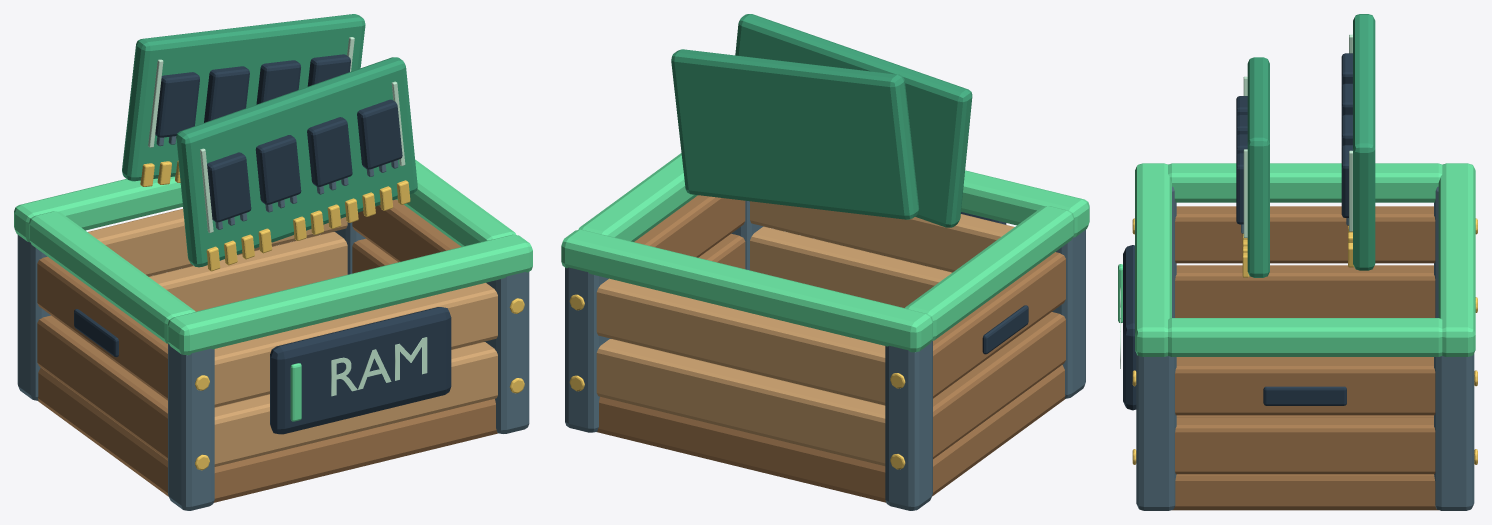
Rendered from ram_module.glb.
3 renders of one model, left to right at view 1: azimuth 30°, elevation 25°; view 2: azimuth 150°, elevation 25°; view 3: azimuth 270°, elevation 25°, orthographic. The views are drawn at different scales.
Visible parts, largest first — view 1: RAM green circuit board, Colored rim, Solid crate floor, Front sign, RAM green circuit board.001, Horizontal wood plank, Horizontal wood plank.002, Horizontal wood plank.001, Side wood plank, Colored rim.002, Reinforced corner, Side wood plank.002 (+19 smaller); view 2: RAM green circuit board.001, Horizontal wood plank.001, Horizontal wood plank.003, Colored rim.001, Solid crate floor, RAM green circuit board, Horizontal wood plank.002, Horizontal wood plank, Side wood plank, Colored rim.002, Reinforced corner.001, Side wood plank.002 (+7 smaller); view 3: Side wood plank.001, Side wood plank.003, Side wood plank, Side wood plank.002, Colored rim.003, Solid crate floor, Colored rim.002, Colored rim.001, Colored rim, Reinforced corner.003, Reinforced corner.002, RAM green circuit board.001 (+8 smaller).
Boxes of the visible parts, x1=… form: RAM green circuit board: x1=176, y1=57, x2=417, y2=267; Colored rim: x1=167, y1=234, x2=532, y2=355; Solid crate floor: x1=37, y1=367, x2=497, y2=502; Front sign: x1=270, y1=307, x2=451, y2=434; RAM green circuit board.001: x1=122, y1=14, x2=365, y2=181; Horizontal wood plank: x1=214, y1=342, x2=497, y2=466; Horizontal wood plank.002: x1=214, y1=283, x2=497, y2=407; Horizontal wood plank.001: x1=149, y1=231, x2=347, y2=311; Side wood plank: x1=37, y1=315, x2=167, y2=459; Colored rim.002: x1=29, y1=211, x2=195, y2=343; Reinforced corner: x1=168, y1=344, x2=214, y2=510; Side wood plank.002: x1=37, y1=256, x2=167, y2=400; RAM green circuit board.001: x1=671, y1=49, x2=919, y2=219; Horizontal wood plank.001: x1=596, y1=339, x2=885, y2=465; Horizontal wood plank.003: x1=596, y1=278, x2=885, y2=405; Colored rim.001: x1=561, y1=229, x2=932, y2=352; Solid crate floor: x1=597, y1=365, x2=1065, y2=502; RAM green circuit board: x1=735, y1=14, x2=972, y2=227; Horizontal wood plank.002: x1=750, y1=201, x2=1014, y2=272; Horizontal wood plank: x1=750, y1=226, x2=952, y2=307; Side wood plank: x1=933, y1=312, x2=1065, y2=459; Colored rim.002: x1=905, y1=206, x2=1074, y2=340; Reinforced corner.001: x1=885, y1=340, x2=932, y2=510; Side wood plank.002: x1=933, y1=252, x2=1065, y2=398; Side wood plank.001: x1=1175, y1=417, x2=1435, y2=474; Side wood plank.003: x1=1175, y1=358, x2=1435, y2=415; Side wood plank: x1=1175, y1=265, x2=1435, y2=317; Side wood plank.002: x1=1175, y1=206, x2=1435, y2=263; Colored rim.003: x1=1168, y1=318, x2=1442, y2=356; Solid crate floor: x1=1172, y1=357, x2=1438, y2=510; Colored rim.002: x1=1168, y1=163, x2=1442, y2=202; Colored rim.001: x1=1438, y1=163, x2=1475, y2=356; Colored rim: x1=1135, y1=163, x2=1171, y2=356; Reinforced corner.003: x1=1434, y1=353, x2=1474, y2=510; Reinforced corner.002: x1=1136, y1=353, x2=1176, y2=510; RAM green circuit board.001: x1=1353, y1=14, x2=1375, y2=270.
Size of the model in its own units: 1.32 by 1.32 by 1.16.
